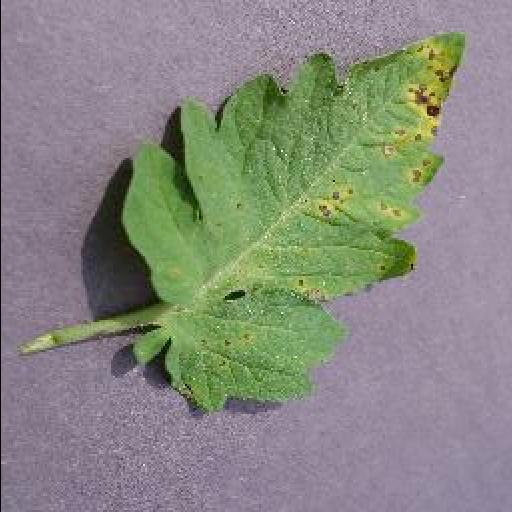disease_tomato: (118, 28, 468, 414)
